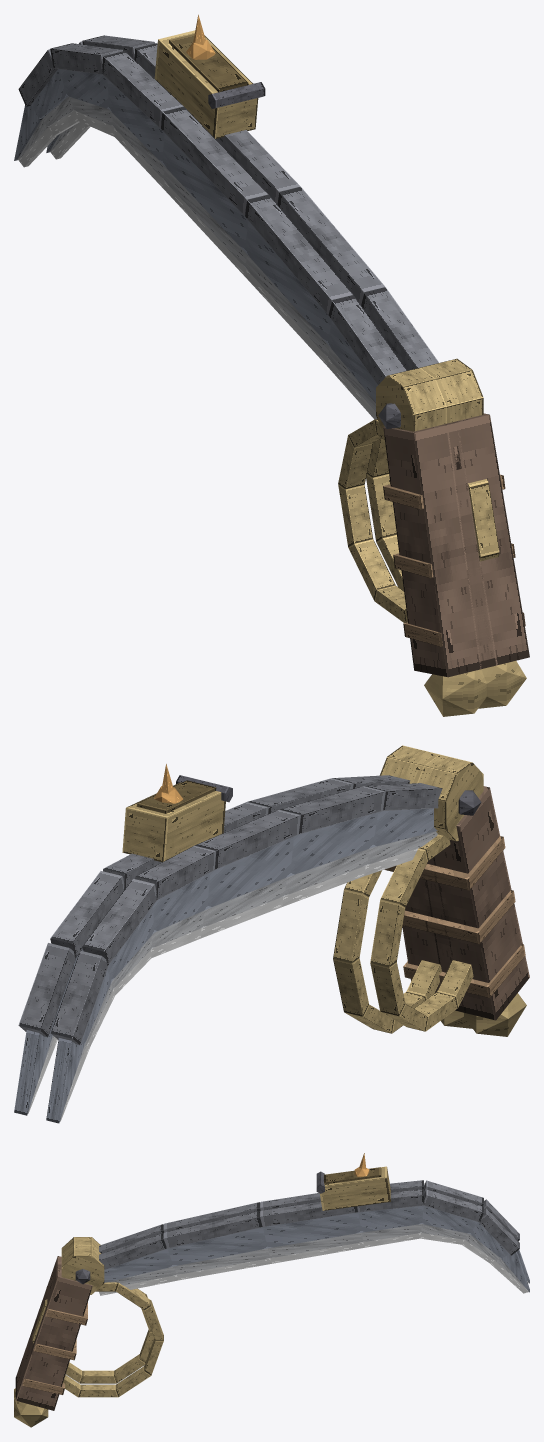
File: weapon_trimmer.gltf
3 renders of one model, top to bottom at view 1: azimuth 30°, elevation 25°; view 2: azimuth 150°, elevation 25°; view 3: azimuth 270°, elevation 25°, orthographic. The views are drawn at different scales.
Parts seen in each view (by area): view 1: blade_l, blade_r, edge_l; view 2: blade_l, blade_r, edge_l, wick; view 3: blade_r, blade_l, edge_r.
Part boxes in pixels (<box>): blade_l: <box>14,43,497,716</box>; blade_r: <box>46,30,529,708</box>; edge_l: <box>18,110,377,419</box>; blade_l: <box>46,753,529,1123</box>; blade_r: <box>14,745,472,1115</box>; edge_l: <box>60,848,418,1121</box>; wick: <box>154,764,183,803</box>; blade_r: <box>14,1166,529,1427</box>; blade_l: <box>14,1180,529,1397</box>; edge_r: <box>99,1233,528,1295</box>.
Size of the model in its own units: 0.0653 by 0.3116 by 0.5379.
Materials: 5 (5 with a texture image).
